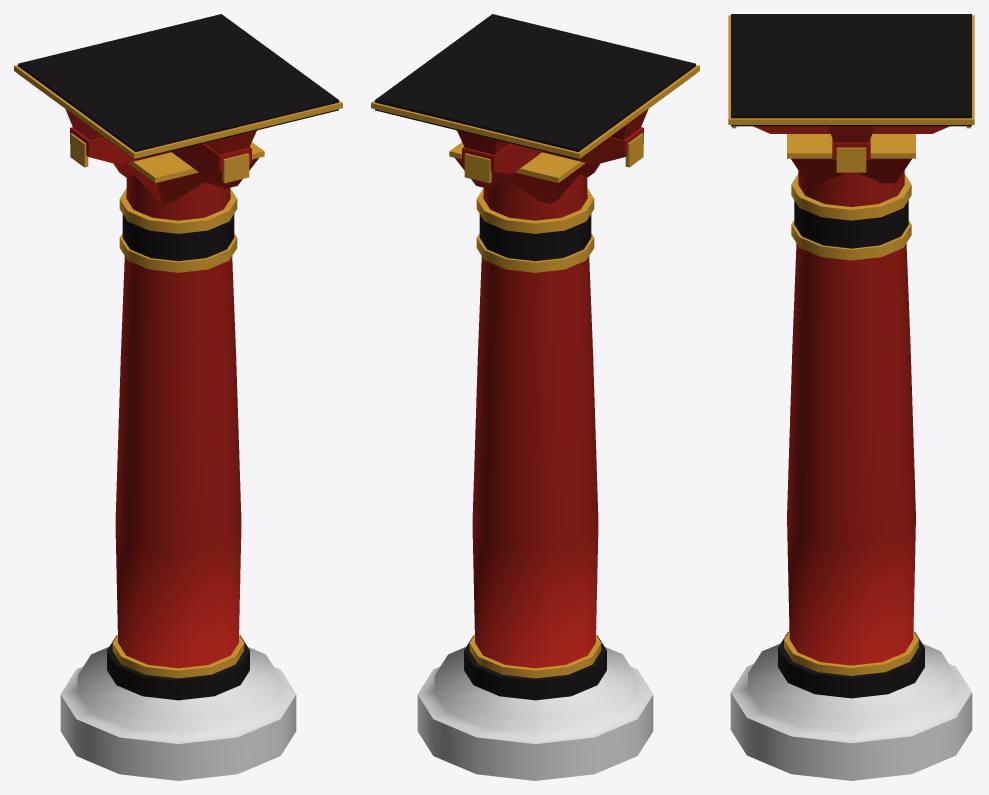
Rendered from SM_Bld_Lacquer_Pillar_Round_01.fbx.
The picture shows the model from 3 angles, left to right: view 1: azimuth 30°, elevation 25°; view 2: azimuth 150°, elevation 25°; view 3: azimuth 270°, elevation 25°; orthographic projection. The views are drawn at different scales.
Parts seen in each view (by area): view 1: SM_Bld_Lacquer_Pillar_Round_01; view 2: SM_Bld_Lacquer_Pillar_Round_01; view 3: SM_Bld_Lacquer_Pillar_Round_01.
Boxes of the visible parts, x1,y1,x2,y2 form: SM_Bld_Lacquer_Pillar_Round_01: (14, 14, 342, 780); SM_Bld_Lacquer_Pillar_Round_01: (371, 14, 699, 780); SM_Bld_Lacquer_Pillar_Round_01: (728, 14, 974, 780).
Bounding box in the file's own units: 1.68 × 5 × 1.68.
